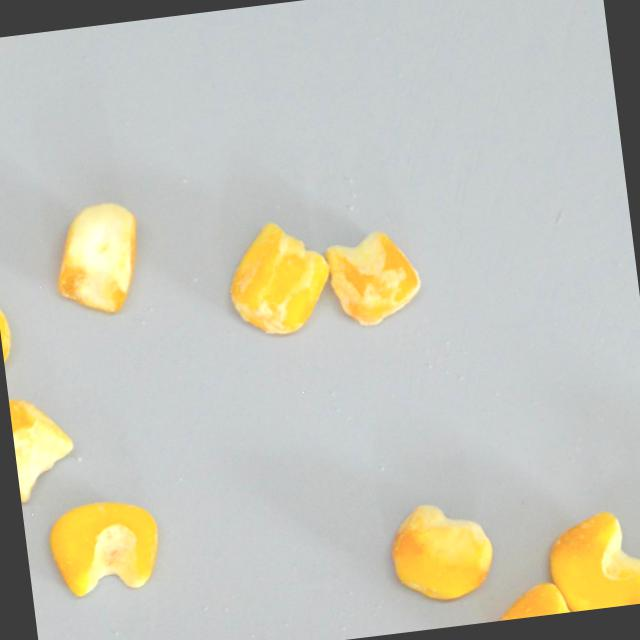no_canjicado: (42, 494, 164, 601), (384, 494, 499, 606)
pelicula: (221, 215, 335, 339), (50, 196, 146, 318), (542, 503, 640, 614), (323, 226, 424, 328), (7, 390, 78, 501), (482, 576, 596, 622)
